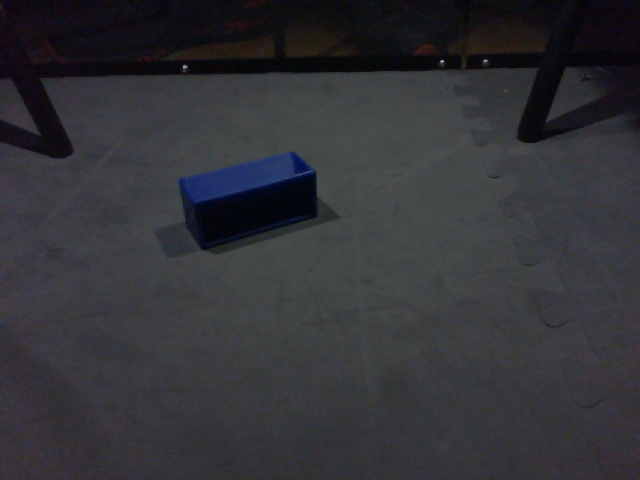BlueSample: (172, 149, 321, 254)
